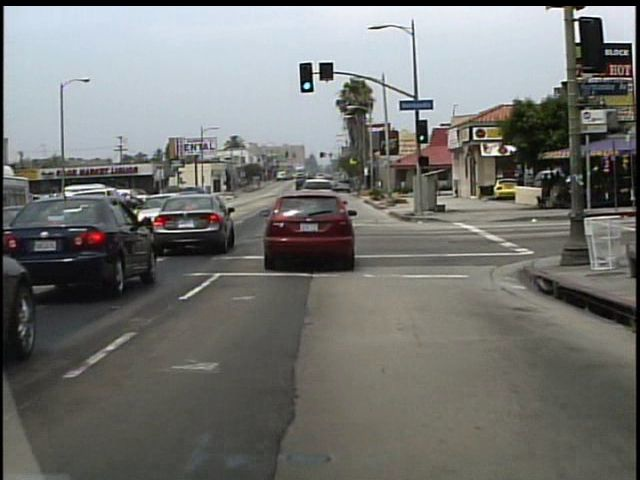person: (513, 171, 527, 206)
